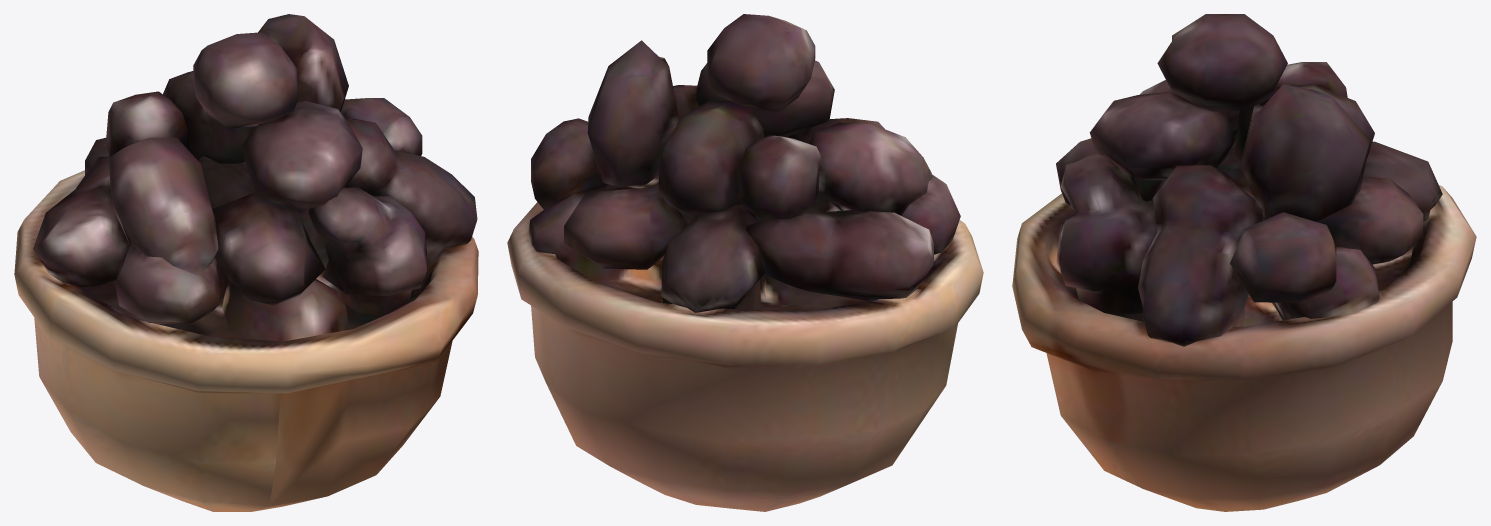
The model's file is raisins.glb.
3 renders of one model, left to right at view 1: azimuth 30°, elevation 25°; view 2: azimuth 150°, elevation 25°; view 3: azimuth 270°, elevation 25°, orthographic.
Parts seen in each view (by area): view 1: Raisins; view 2: Raisins; view 3: Raisins.
Part boxes in pixels (bbox=[...]): Raisins: bbox=[14, 14, 478, 511]; Raisins: bbox=[507, 14, 983, 511]; Raisins: bbox=[1012, 14, 1476, 511].
Bounding box in the file's own units: 0.9966 × 1.05 × 0.9763.
1 material, 1 textured.
